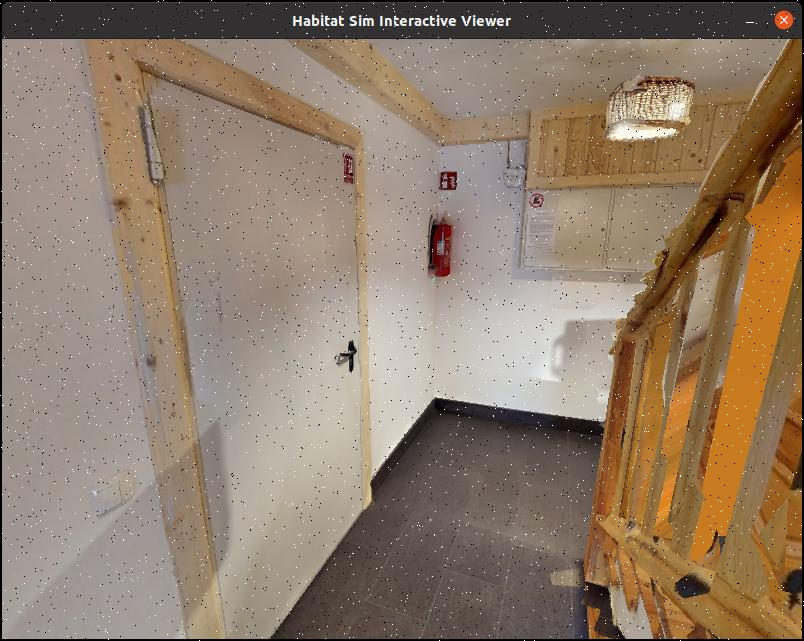door: (143, 71, 383, 641)
